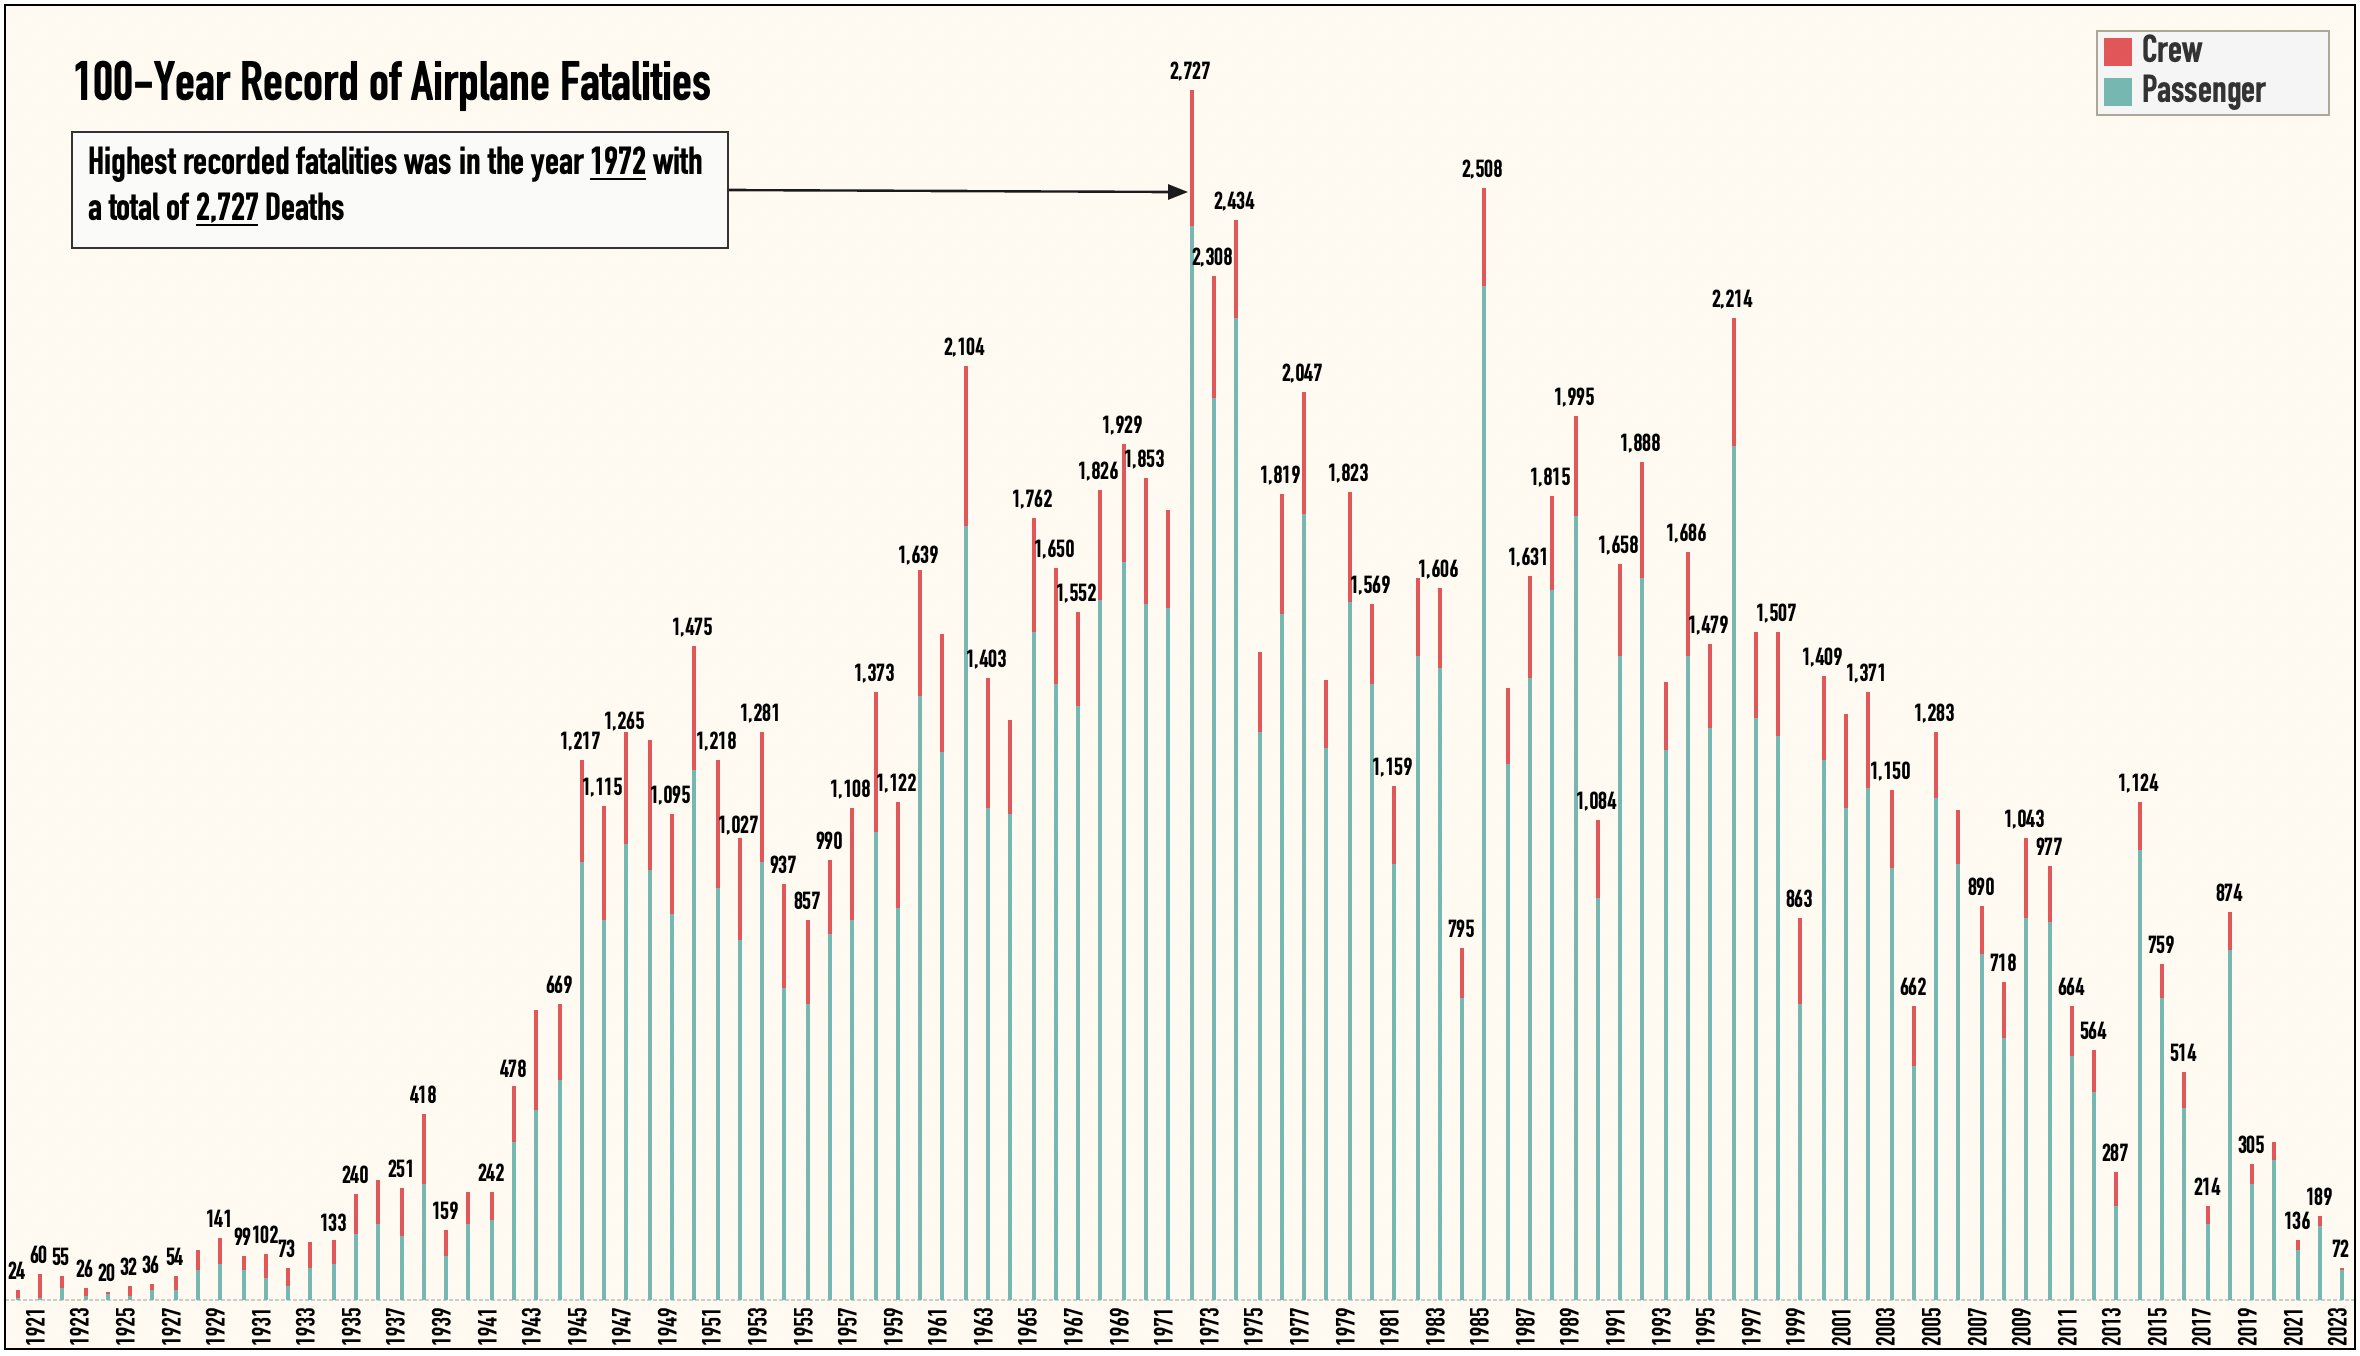

The dashboard page shown, as its layout file describes it:
{"tool":"tableau","page":{"name":"Dashborad Fatalities Trend","canvas":[1200,800],"ordinal":2},"visuals":[{"type":"worksheet","title":"Fatalities Trend","mark":"Bar","rows":["Calculation_1294362742656212992"],"cols":["Date"],"box":[8,2,1176,673]},{"type":"legend","title":"Fatalities Trend","param":"[federated.0i57arz0id4zm21btt5wt0yg8qbb].[:Measure Names]","box":[1054,15,117,43]},{"type":"text","box":[40,29,472,54]}]}

Visuals, with their boxes on the page's 1200x800 design canvas (x1, y1, x2, y2). These are canvas units, not pixel positions in the 2360x1356 screenshot, which may show the page scaled, cropped or inside an application window:
"Fatalities Trend" worksheet (Bar marks): <bbox>8, 2, 1184, 675</bbox>
"Fatalities Trend" legend: <bbox>1054, 15, 1171, 58</bbox>
text: <bbox>40, 29, 512, 83</bbox>
